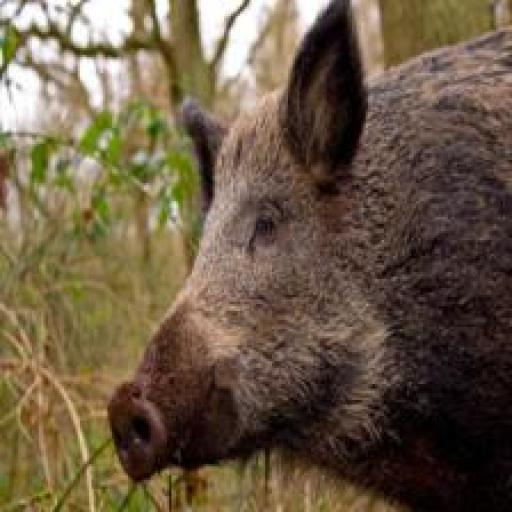Pig: (107, 0, 512, 512)
